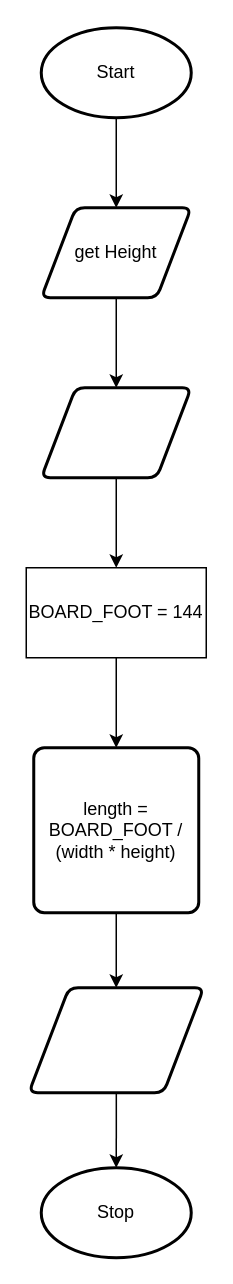
This 233x1284 diagram has some shape labels left out. The shapes that lost their labels are listed below. From the top down, each one's centre as x and y in pixels, then its label:
the point at 115,432: get Width
the point at 116,1040: return Length
